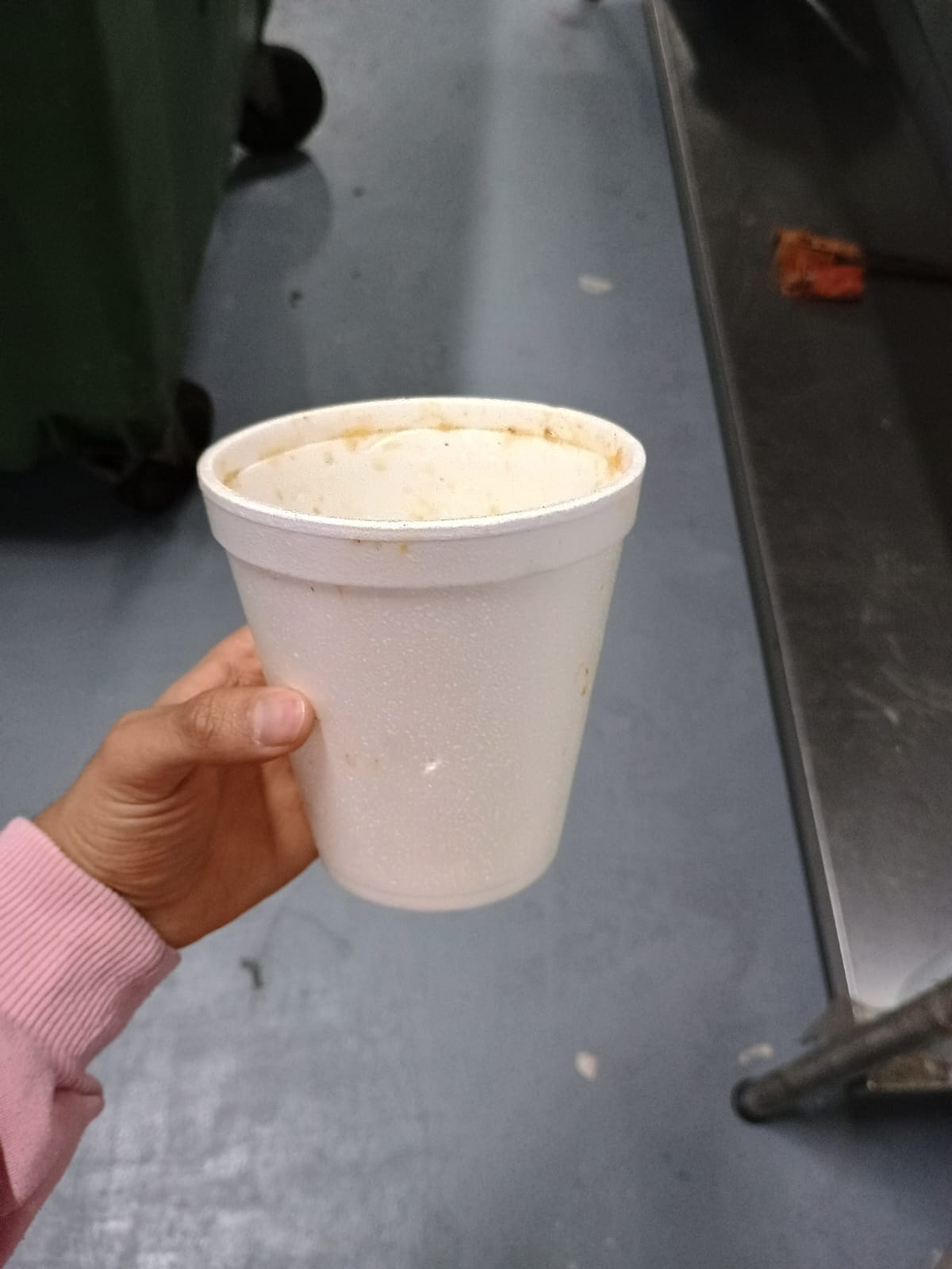Ordinario: (186, 395, 644, 910)
